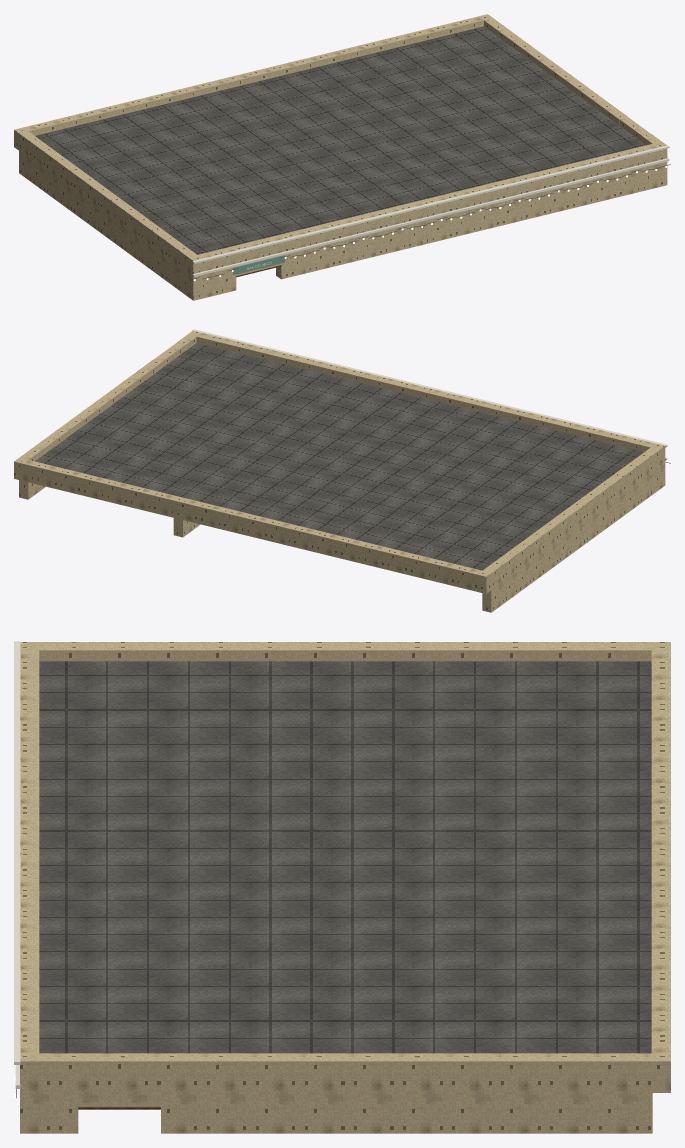
The model's file is bar_shell.glb.
The picture shows the model from 3 angles, top to bottom: view 1: azimuth 30°, elevation 25°; view 2: azimuth 150°, elevation 25°; view 3: azimuth 270°, elevation 25°; orthographic projection. The views are drawn at different scales.
Parts seen in each view (by area): view 1: Lapa_concrete, Lapa_plaster, Lapa_cream, Lapa_black; view 2: Lapa_concrete, Lapa_plaster, Lapa_cream; view 3: Lapa_concrete, Lapa_plaster, Lapa_cream.
Boxes of the visible parts, x1,y1,x2,y2 form: Lapa_concrete: (35,26,645,254); Lapa_plaster: (14,14,667,300); Lapa_cream: (192,145,669,276); Lapa_black: (190,164,670,280); Lapa_concrete: (35,343,643,570); Lapa_plaster: (14,330,665,612); Lapa_cream: (192,329,667,460); Lapa_concrete: (39,661,651,1053); Lapa_plaster: (20,642,670,1133); Lapa_cream: (14,641,20,1088).
Size of the model in its own units: 24.65 by 1.95 by 16.07.
13 materials, 4 textured.
